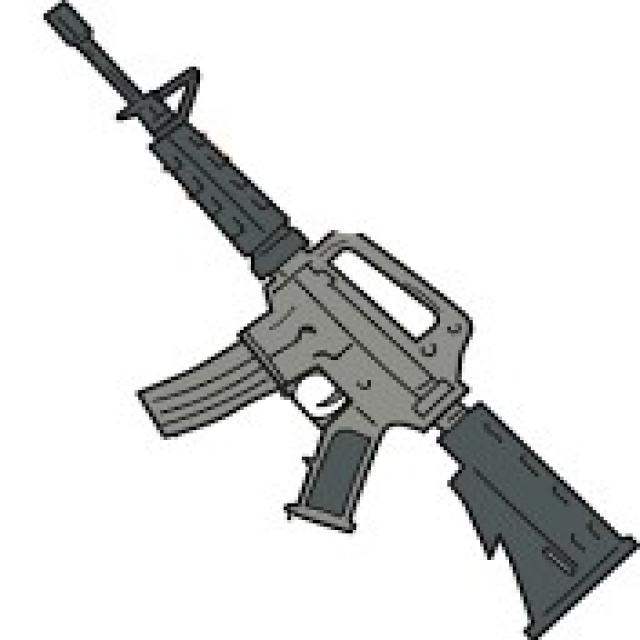rifle: (36, 1, 640, 640)
